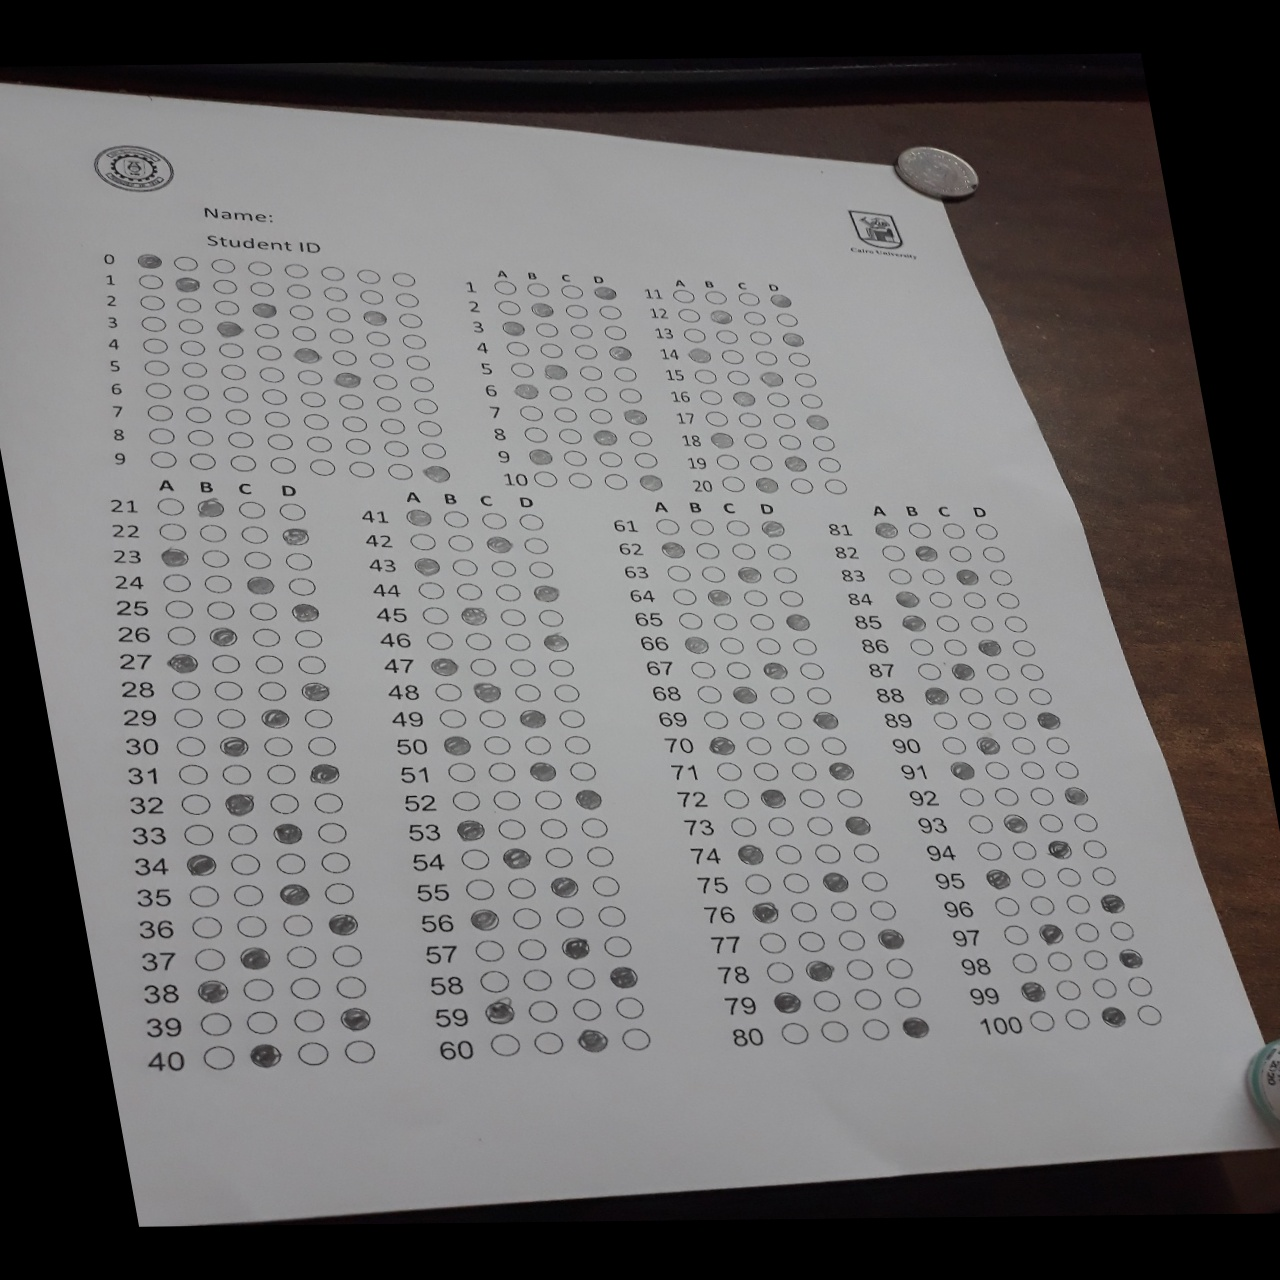not-c: (243, 1009, 281, 1033), (291, 1008, 328, 1032), (192, 947, 229, 971), (341, 1040, 377, 1063), (200, 1046, 237, 1069), (198, 1012, 234, 1035), (618, 1027, 654, 1050), (525, 999, 561, 1022), (551, 905, 587, 928), (503, 874, 539, 898), (559, 733, 595, 756), (329, 944, 365, 967), (564, 966, 599, 989), (513, 937, 549, 960), (472, 938, 508, 961), (509, 906, 544, 930), (584, 844, 619, 867), (578, 815, 613, 838), (537, 815, 572, 838), (540, 845, 576, 869), (495, 817, 530, 840), (450, 789, 485, 812), (530, 787, 565, 810), (444, 760, 479, 783), (520, 733, 556, 756), (436, 706, 471, 729), (826, 899, 862, 922), (762, 959, 797, 982), (280, 913, 316, 935), (284, 945, 320, 967), (489, 788, 525, 810), (231, 883, 265, 906), (779, 871, 813, 894), (756, 930, 790, 953), (851, 987, 885, 1010), (778, 1021, 812, 1044), (1061, 1007, 1095, 1030), (186, 885, 222, 907), (288, 976, 324, 999), (334, 975, 369, 998), (295, 1042, 331, 1064), (486, 1033, 522, 1055), (613, 996, 648, 1019), (520, 968, 556, 990), (599, 935, 634, 958), (594, 904, 629, 926), (588, 873, 624, 896), (458, 847, 493, 870), (463, 878, 498, 900), (484, 760, 519, 782), (475, 707, 510, 729), (741, 872, 774, 896), (867, 898, 900, 921), (843, 958, 876, 981), (175, 763, 211, 784), (225, 823, 261, 844), (477, 969, 513, 990), (315, 821, 349, 843), (318, 851, 352, 873), (274, 852, 308, 874), (229, 852, 263, 874), (324, 881, 358, 904), (190, 915, 224, 938), (241, 978, 275, 1000), (481, 733, 515, 755), (550, 681, 584, 703), (501, 629, 535, 652), (857, 869, 891, 891), (787, 900, 821, 922), (835, 928, 869, 951), (794, 930, 828, 952), (881, 956, 915, 979), (890, 985, 924, 1007), (810, 989, 844, 1012), (818, 1020, 852, 1042), (218, 764, 253, 785), (264, 763, 299, 784), (309, 792, 345, 813), (181, 824, 216, 845), (531, 1032, 566, 1053), (570, 998, 605, 1019), (566, 760, 601, 781), (1087, 865, 1119, 887), (266, 794, 302, 813), (173, 735, 207, 756), (234, 915, 268, 937), (511, 681, 545, 702), (467, 656, 501, 678), (462, 629, 496, 651), (859, 1017, 893, 1039), (1024, 1010, 1058, 1032), (669, 585, 700, 608), (1124, 974, 1156, 996), (1054, 979, 1085, 1001), (1080, 948, 1111, 971), (1000, 922, 1032, 945), (1107, 919, 1138, 941), (1051, 865, 1083, 887), (179, 794, 215, 813), (433, 680, 465, 701), (546, 656, 579, 678), (424, 629, 457, 651), (765, 813, 798, 835), (849, 840, 881, 862), (771, 842, 804, 863), (1088, 978, 1121, 999), (1026, 894, 1058, 915), (1016, 867, 1049, 888), (1010, 951, 1041, 973), (1073, 920, 1103, 942), (1063, 892, 1094, 914), (171, 707, 205, 727), (215, 708, 248, 728), (301, 707, 335, 727), (508, 658, 542, 678), (719, 788, 753, 808), (726, 816, 760, 836), (794, 788, 828, 808), (1133, 1003, 1165, 1024), (1044, 949, 1076, 971), (990, 894, 1022, 915), (275, 501, 308, 520), (263, 736, 295, 756), (556, 707, 588, 727), (515, 511, 547, 531), (804, 815, 837, 835), (833, 787, 866, 806), (663, 563, 694, 584), (168, 680, 202, 699), (304, 736, 338, 755), (282, 551, 314, 571), (204, 600, 236, 620), (292, 628, 324, 648), (165, 625, 197, 645), (253, 654, 285, 674), (256, 680, 287, 700), (812, 843, 844, 863), (975, 840, 1005, 862), (965, 709, 994, 730), (960, 588, 989, 610), (993, 588, 1022, 610), (196, 523, 229, 542), (236, 501, 268, 519), (285, 577, 318, 595), (448, 557, 481, 576), (697, 564, 730, 583), (795, 661, 828, 680), (210, 277, 241, 295), (139, 314, 171, 333), (142, 380, 173, 399), (155, 496, 186, 515), (157, 523, 189, 542), (243, 550, 274, 568), (164, 599, 196, 618), (248, 601, 280, 620), (251, 627, 282, 646), (210, 653, 241, 672), (295, 655, 327, 674), (212, 681, 244, 700), (535, 608, 566, 627), (492, 581, 524, 600), (520, 536, 552, 554), (444, 533, 476, 552), (763, 542, 795, 560), (745, 611, 777, 629), (694, 685, 726, 703), (765, 685, 797, 703), (803, 685, 835, 703), (714, 761, 745, 779), (907, 636, 935, 658), (1010, 636, 1039, 658), (675, 610, 704, 629), (1010, 840, 1040, 860), (966, 813, 995, 833), (992, 787, 1021, 806), (940, 735, 969, 755), (1000, 710, 1029, 730), (990, 685, 1020, 704), (1024, 686, 1054, 706), (940, 636, 969, 656), (1001, 614, 1030, 634), (966, 612, 995, 632), (926, 588, 955, 608), (139, 336, 172, 354), (139, 359, 172, 376), (413, 418, 445, 436), (302, 434, 335, 451), (486, 558, 519, 576), (686, 517, 719, 535), (170, 253, 200, 272), (177, 339, 207, 358), (212, 297, 243, 315), (286, 302, 316, 321), (370, 372, 401, 390), (199, 549, 230, 567), (454, 581, 484, 600), (526, 560, 557, 579), (440, 509, 470, 527), (729, 542, 760, 560), (776, 588, 806, 607), (737, 710, 768, 729), (789, 761, 819, 779), (749, 761, 779, 779), (1071, 812, 1102, 831), (958, 787, 986, 806), (1027, 787, 1055, 806), (1017, 760, 1046, 779), (983, 760, 1012, 779), (1008, 735, 1036, 755), (1044, 735, 1073, 755), (958, 685, 986, 704), (1017, 662, 1046, 682), (973, 520, 1001, 540), (207, 256, 239, 273), (247, 279, 279, 297), (137, 293, 169, 311), (182, 406, 213, 423), (176, 316, 207, 334), (251, 321, 282, 339), (288, 324, 320, 341), (216, 341, 247, 359), (257, 365, 288, 382), (294, 367, 326, 384), (338, 415, 369, 433), (374, 394, 406, 411), (417, 442, 449, 459), (227, 454, 259, 471), (238, 525, 270, 543), (202, 574, 233, 592), (162, 574, 193, 592), (421, 606, 452, 624), (408, 532, 440, 550), (652, 517, 683, 535), (721, 518, 753, 536), (723, 660, 755, 678), (688, 660, 720, 678), (772, 710, 804, 728), (700, 712, 731, 729), (781, 736, 812, 754), (717, 635, 747, 654), (1080, 839, 1109, 858), (1051, 760, 1081, 778), (931, 710, 960, 729), (263, 433, 295, 449), (747, 452, 774, 472), (145, 404, 176, 422), (179, 360, 210, 377), (324, 305, 354, 322), (259, 388, 290, 406), (302, 411, 333, 429), (384, 462, 415, 479), (498, 607, 529, 625), (417, 581, 448, 599), (479, 511, 510, 529), (692, 542, 722, 559), (770, 565, 801, 583), (741, 588, 771, 606), (753, 636, 783, 654), (790, 636, 821, 654), (743, 736, 774, 754), (819, 736, 850, 754), (1036, 813, 1067, 831), (983, 661, 1012, 680), (915, 661, 944, 680), (933, 613, 961, 632), (905, 520, 933, 539), (879, 543, 907, 561), (719, 474, 747, 492), (813, 455, 842, 474), (702, 408, 730, 427), (135, 273, 166, 290), (243, 259, 274, 275), (181, 383, 212, 400), (173, 295, 205, 312), (299, 390, 331, 407), (346, 459, 377, 476), (186, 452, 218, 469), (149, 450, 181, 467), (318, 265, 347, 282), (403, 353, 433, 370), (222, 384, 251, 402), (308, 457, 338, 475), (268, 456, 298, 474), (710, 612, 740, 629), (947, 544, 974, 563), (810, 433, 837, 451), (280, 261, 311, 278), (254, 343, 285, 360), (223, 408, 253, 424), (336, 393, 367, 409), (410, 396, 441, 413), (382, 438, 413, 455), (343, 437, 374, 454), (225, 430, 256, 447), (147, 427, 177, 443), (987, 568, 1015, 586), (822, 476, 850, 493), (775, 433, 803, 450), (522, 425, 550, 443), (531, 469, 559, 486), (407, 376, 438, 392), (284, 282, 313, 299), (321, 285, 350, 301), (393, 291, 422, 307), (219, 362, 248, 379), (263, 410, 292, 427), (185, 429, 215, 445), (397, 311, 424, 328), (980, 544, 1007, 561), (941, 520, 968, 538), (886, 567, 913, 585), (920, 567, 947, 585), (788, 476, 815, 493), (587, 407, 614, 424), (561, 449, 588, 467), (377, 417, 408, 433), (326, 327, 354, 343), (400, 333, 428, 349), (713, 452, 741, 469), (741, 433, 769, 449), (796, 392, 824, 408), (771, 411, 797, 429), (736, 410, 763, 427), (558, 282, 585, 299), (602, 324, 629, 340), (627, 429, 654, 445), (601, 474, 628, 490), (354, 267, 382, 282), (390, 271, 418, 286), (329, 349, 358, 365), (367, 352, 395, 367), (682, 326, 708, 342), (735, 291, 761, 307), (618, 387, 644, 403), (583, 384, 608, 401), (518, 403, 544, 420), (557, 427, 583, 443), (719, 348, 745, 363), (492, 279, 519, 294), (566, 471, 593, 486), (742, 309, 767, 326), (612, 365, 636, 381), (553, 406, 578, 422), (358, 290, 386, 304), (365, 331, 393, 345), (699, 389, 724, 404), (693, 368, 719, 383), (726, 369, 751, 384), (787, 350, 812, 366), (713, 328, 738, 343), (774, 311, 799, 326), (676, 307, 702, 322), (597, 304, 622, 319), (496, 299, 522, 314), (563, 302, 588, 318), (533, 321, 559, 336), (538, 342, 564, 358), (505, 340, 531, 355), (632, 452, 658, 468), (597, 451, 622, 467), (753, 350, 779, 365), (745, 329, 772, 343), (670, 288, 697, 302), (794, 372, 818, 387), (525, 281, 550, 297), (578, 365, 602, 380), (549, 384, 573, 400), (702, 290, 728, 304), (568, 324, 594, 338), (509, 362, 535, 376), (765, 392, 790, 406), (573, 343, 598, 358)
taken-c: (602, 964, 642, 989), (803, 958, 839, 985), (482, 1000, 520, 1024), (557, 935, 595, 960), (770, 990, 806, 1016), (574, 1027, 612, 1051), (338, 1007, 375, 1032), (897, 1015, 931, 1042), (325, 913, 362, 937), (246, 1043, 284, 1067), (733, 844, 768, 869), (195, 980, 230, 1005), (275, 883, 312, 906), (467, 908, 504, 931), (165, 652, 200, 675), (238, 946, 273, 969), (271, 823, 307, 845), (818, 872, 852, 896), (206, 625, 240, 648), (546, 876, 581, 898), (499, 846, 535, 869), (570, 788, 605, 810), (525, 760, 560, 782), (183, 855, 219, 876), (158, 546, 192, 568), (298, 681, 332, 703), (306, 762, 340, 784), (216, 735, 250, 757), (452, 819, 488, 840), (222, 794, 257, 815), (258, 708, 292, 729), (840, 813, 873, 835), (516, 707, 549, 728), (440, 735, 474, 755), (244, 574, 275, 595), (890, 588, 922, 608), (704, 735, 737, 755), (757, 787, 790, 806), (824, 761, 857, 781), (428, 658, 461, 678), (947, 760, 978, 781), (874, 927, 905, 948), (290, 601, 320, 622), (946, 661, 978, 681), (748, 903, 779, 922), (471, 682, 503, 702), (410, 556, 442, 576), (195, 498, 226, 518), (972, 736, 1005, 755), (910, 543, 942, 561), (540, 633, 573, 652), (974, 638, 1005, 658), (1000, 812, 1030, 832), (756, 518, 787, 538), (484, 533, 515, 553), (1061, 787, 1092, 805), (921, 687, 953, 706), (871, 520, 903, 539), (680, 635, 712, 654), (782, 612, 813, 631), (983, 869, 1013, 888), (404, 508, 434, 527), (1032, 712, 1062, 730), (953, 567, 983, 586), (1096, 893, 1126, 912), (1035, 924, 1065, 942), (1115, 948, 1145, 967), (734, 564, 764, 583), (704, 587, 735, 606), (729, 685, 760, 703), (810, 710, 840, 729), (1098, 1006, 1126, 1026), (898, 614, 930, 632), (760, 661, 791, 679), (291, 346, 322, 363), (605, 343, 636, 361), (619, 408, 651, 425), (1046, 839, 1075, 858), (1017, 981, 1047, 1000), (459, 606, 489, 625), (531, 584, 560, 602), (280, 527, 309, 546), (782, 455, 811, 474), (803, 413, 832, 431), (658, 540, 688, 558), (497, 319, 527, 336), (709, 430, 737, 449), (753, 475, 781, 493), (248, 301, 280, 318), (332, 372, 363, 388), (421, 465, 452, 482), (360, 309, 392, 326), (135, 252, 166, 268), (590, 284, 621, 300), (526, 448, 558, 464), (588, 429, 620, 445), (542, 365, 572, 381), (636, 474, 665, 491), (215, 320, 244, 336), (173, 275, 203, 292), (512, 382, 542, 399), (686, 347, 714, 363), (527, 301, 557, 316), (779, 331, 806, 347), (758, 372, 787, 387), (768, 291, 794, 307), (731, 390, 758, 406), (707, 308, 734, 324)
